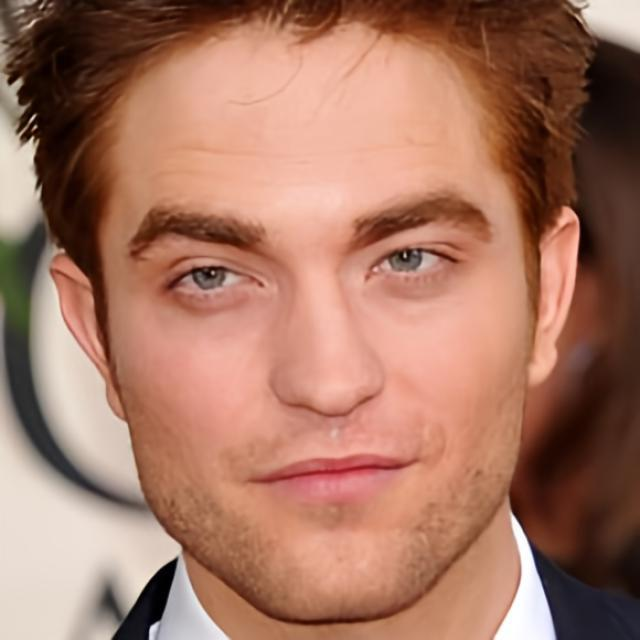content: (106, 28, 530, 620)
